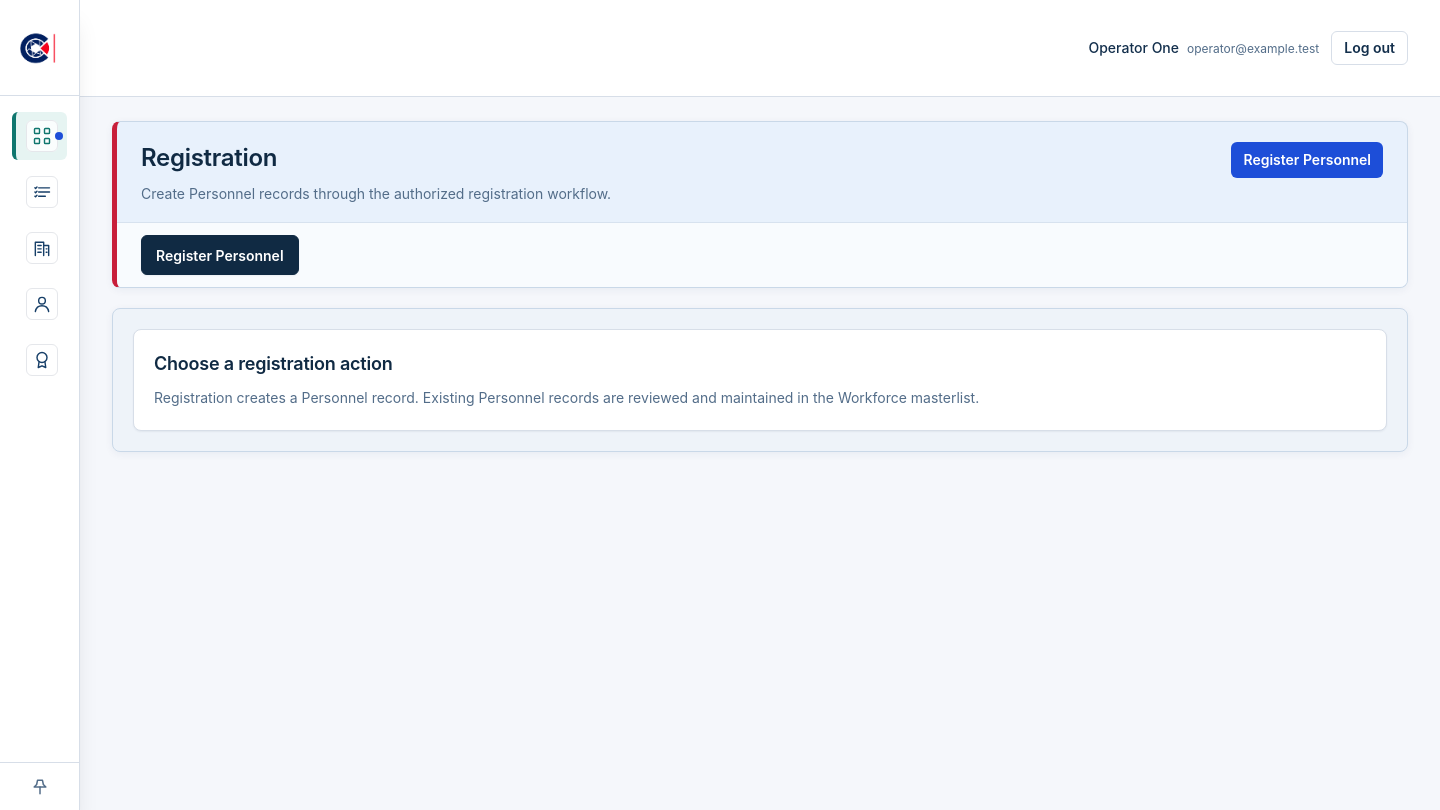
Scenario: Registration Personnel frontend › opens explicit Register Personnel mode with the active Client filter preselected
Click the button "Register Personnel". click: (1307, 160)
box: [1231, 142, 1383, 178]
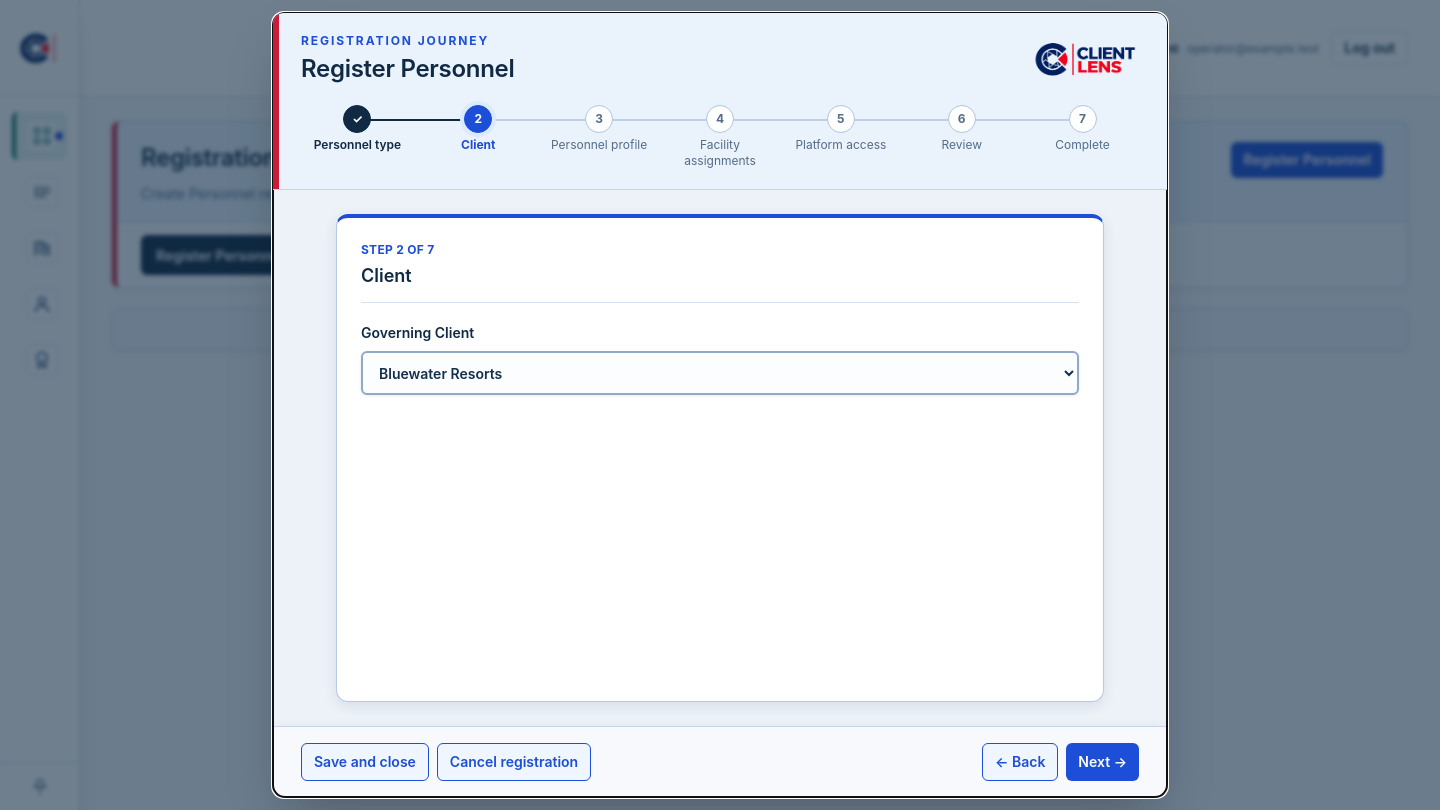
expect the dropdown labelled "Governing Client" shows "Bluewater Resorts": met, box [361, 351, 1079, 395]
